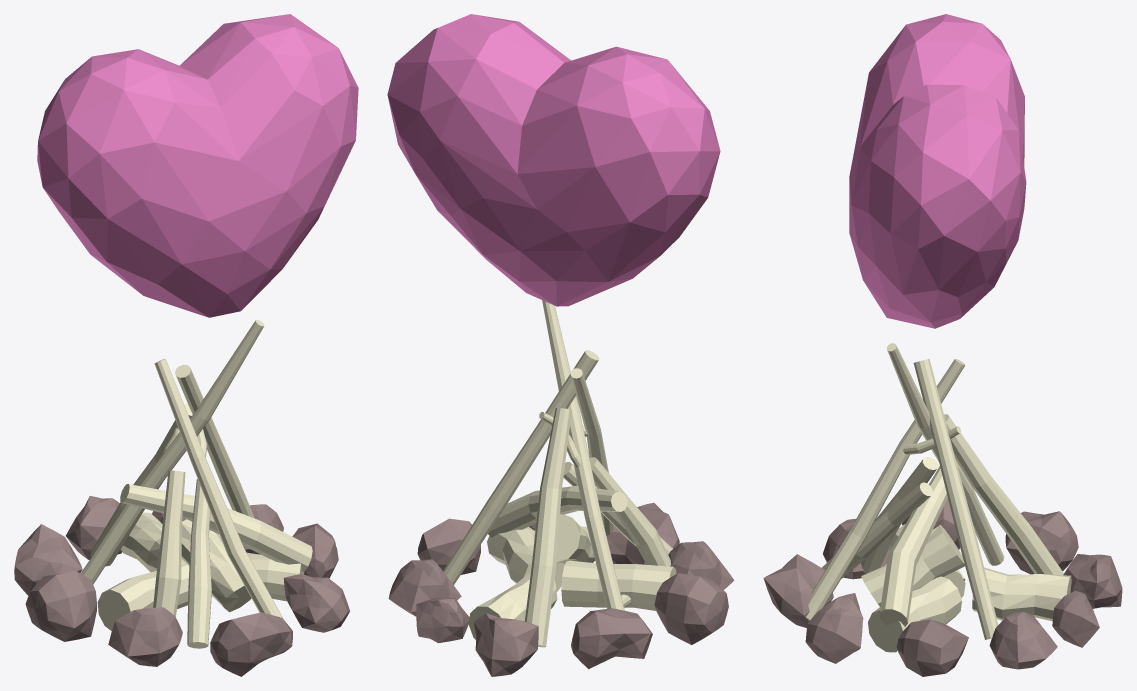
The model's file is campfire.gltf.
3 renders of one model, left to right at view 1: azimuth 30°, elevation 25°; view 2: azimuth 150°, elevation 25°; view 3: azimuth 270°, elevation 25°, orthographic.
Parts seen in each view (by area): view 1: Love, stick9, stick7, rock3, stick13, rock8, rock1, stick11, stick14, rock6, rock7, stick2 (+8 smaller); view 2: Love, stick1, stick7, stick2, rock3, stick3, rock7, rock2, stick13, rock9, stick14, rock5 (+8 smaller); view 3: Love, stick2, stick9, stick13, stick1, stick4, rock4, rock6, stick5, stick7, rock9, rock8 (+7 smaller).
Boxes of the visible parts, <box> form: Love: <box>37,14,358,317</box>; stick9: <box>154,358,283,619</box>; stick7: <box>81,319,264,584</box>; rock3: <box>25,570,96,641</box>; stick13: <box>120,484,312,573</box>; rock8: <box>210,612,292,676</box>; rock1: <box>108,607,182,666</box>; stick11: <box>187,479,211,648</box>; stick14: <box>153,470,185,616</box>; rock6: <box>283,574,349,632</box>; rock7: <box>14,524,82,595</box>; stick2: <box>175,364,254,518</box>; Love: <box>387,14,720,306</box>; stick1: <box>524,408,571,647</box>; stick7: <box>542,300,624,610</box>; stick2: <box>443,350,599,584</box>; rock3: <box>654,573,728,644</box>; stick3: <box>561,560,676,610</box>; rock7: <box>571,608,652,669</box>; rock2: <box>473,613,538,676</box>; stick13: <box>488,485,627,537</box>; rock9: <box>388,559,461,616</box>; stick14: <box>589,457,670,566</box>; rock5: <box>416,597,469,643</box>; Love: <box>849,14,1026,328</box>; stick2: <box>913,359,998,639</box>; stick9: <box>806,358,965,619</box>; stick13: <box>879,466,947,626</box>; stick1: <box>944,414,1063,575</box>; stick4: <box>972,567,1071,621</box>; rock4: <box>896,619,968,676</box>; rock6: <box>805,593,863,663</box>; stick5: <box>868,576,961,652</box>; stick7: <box>887,343,1004,565</box>; rock9: <box>989,612,1057,669</box>; rock8: <box>763,554,833,627</box>.
Bounding box in the file's own units: 8.36 × 14.52 × 8.22.
